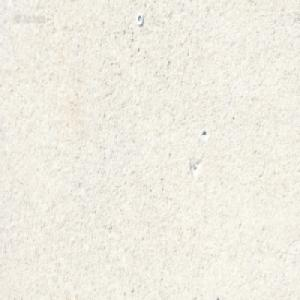Washer: (135, 12, 143, 26)
